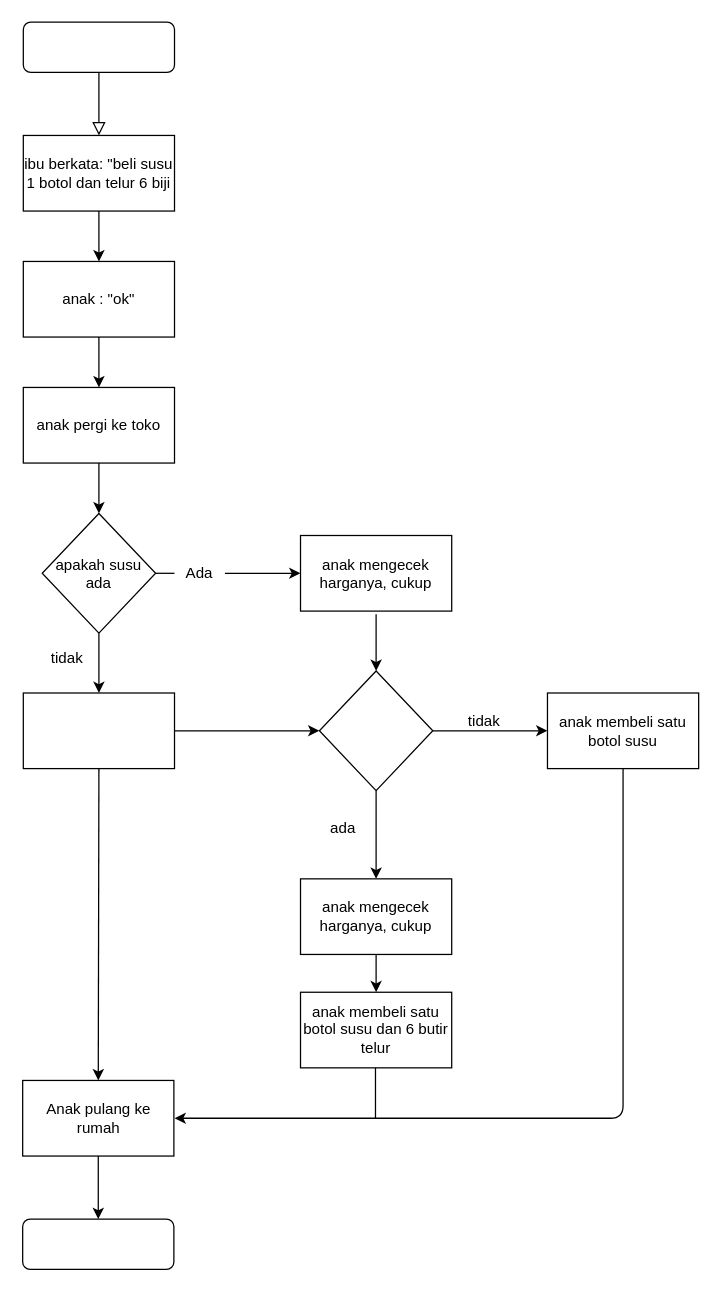
This 721x1292 diagram has some shape labels left out. The shapes that lost their labels are listed below. From the top down, each one's centre as x and y in pixels, then its label:
At (98,46): "Mulai".
At (98,730): "anak tidak jadi membeli susu".
At (375,730): "apakah ada telur".
At (97,1243): "Selesai".
